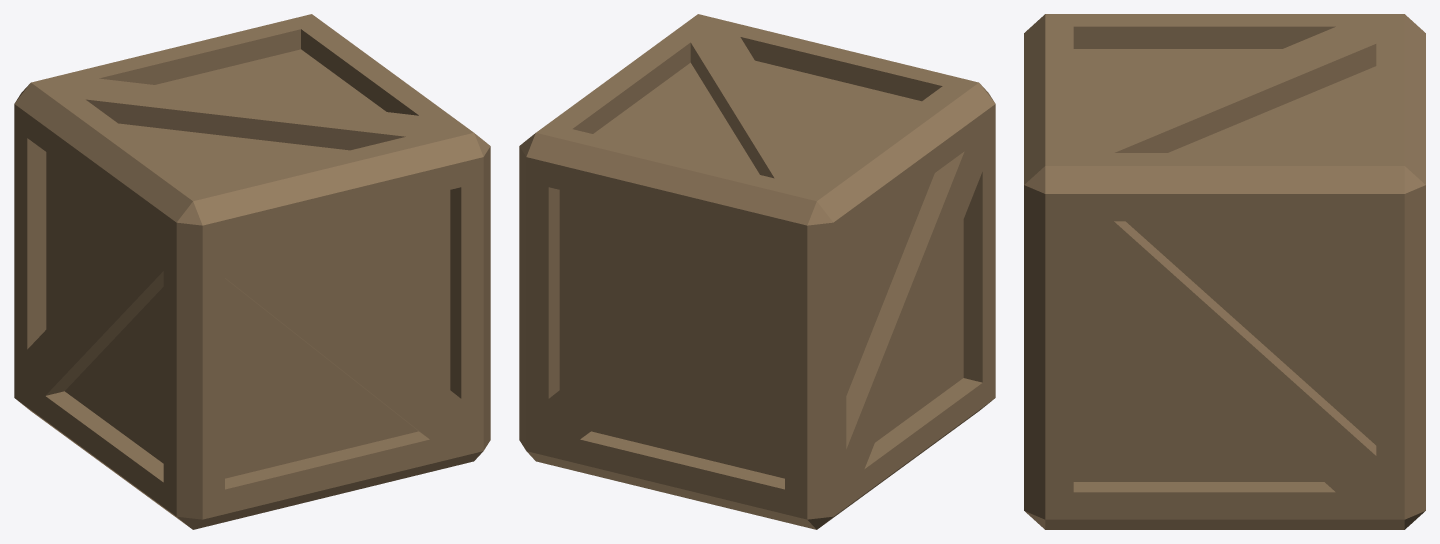
Rendered from crate.glb.
3 views of the same model, side by side, from view 1: azimuth 30°, elevation 25°; view 2: azimuth 150°, elevation 25°; view 3: azimuth 270°, elevation 25° (orthographic). The views are drawn at different scales.
Visible parts, largest first — view 1: Cube; view 2: Cube; view 3: Cube.
Boxes of the visible parts, x1=… form: Cube: x1=14, y1=14, x2=490, y2=529; Cube: x1=519, y1=14, x2=995, y2=529; Cube: x1=1024, y1=14, x2=1425, y2=529.
Bounding box in the file's own units: 2 × 2 × 2.
